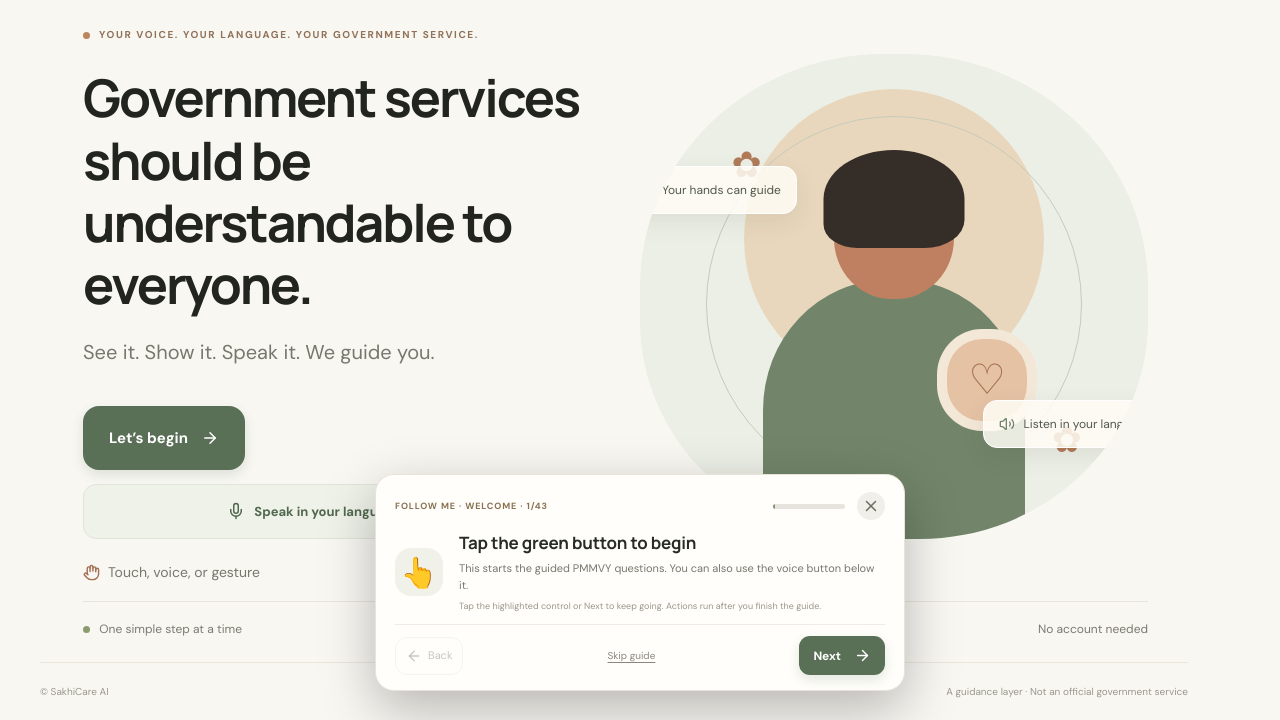
it: SakhiCare guided journey › automatically opens the guide on a first visit and remembers skip
The image size is (1280, 720).
(page scrolled)
Expected: the dialog is shown, [375, 474, 905, 691]
Click the button named "skip guide": point(871, 506) [857, 492, 885, 520]
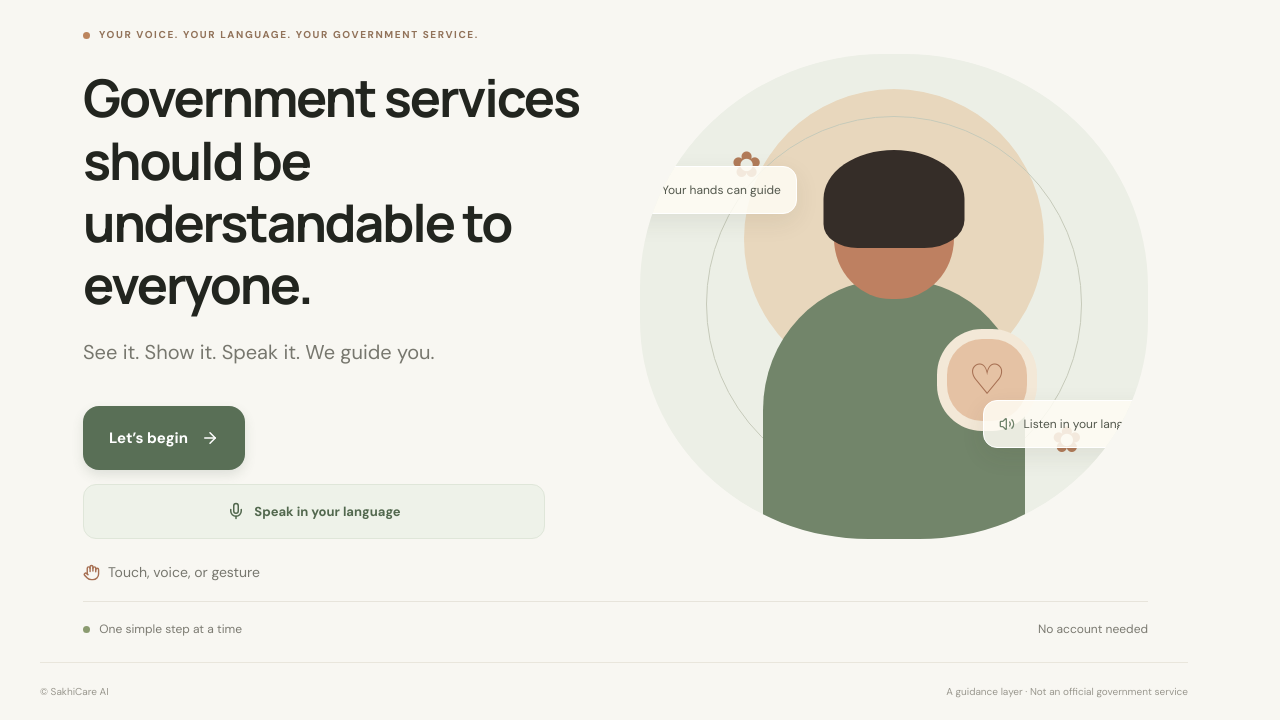
Expected: the dialog is gone
